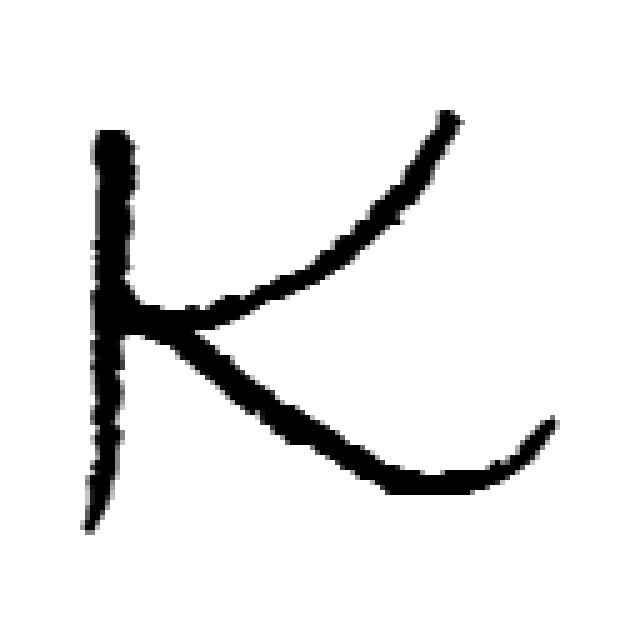K: (55, 124, 556, 527)
